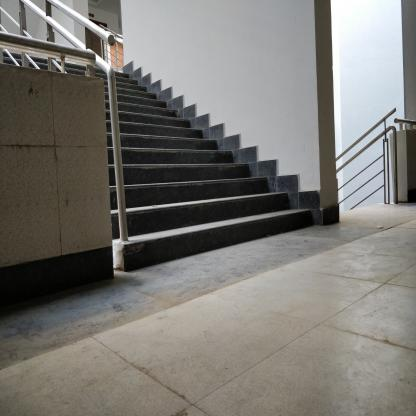stairs: (131, 128, 203, 272)
